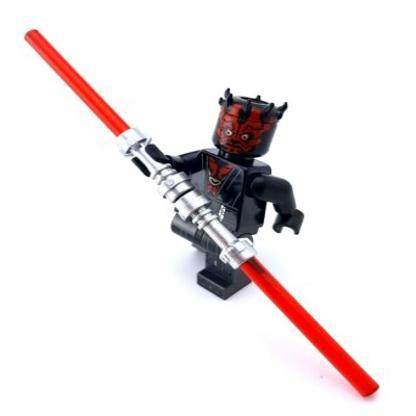sith_lightsaber: (18, 23, 387, 405)
